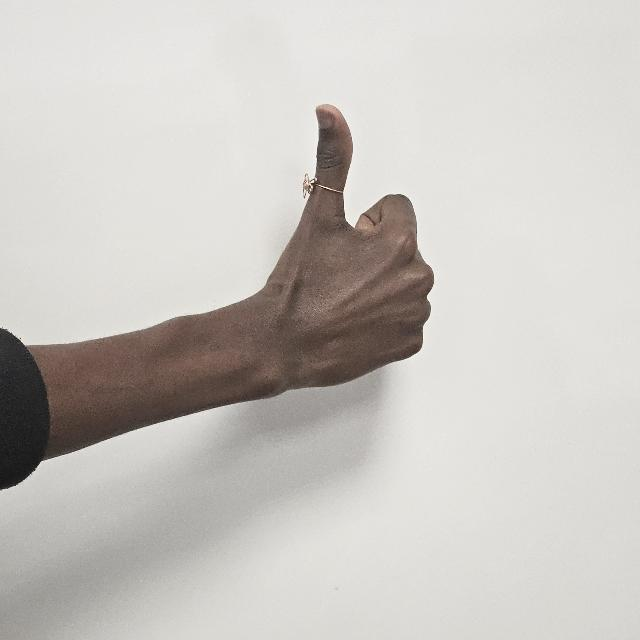Start: (258, 100, 438, 392)
